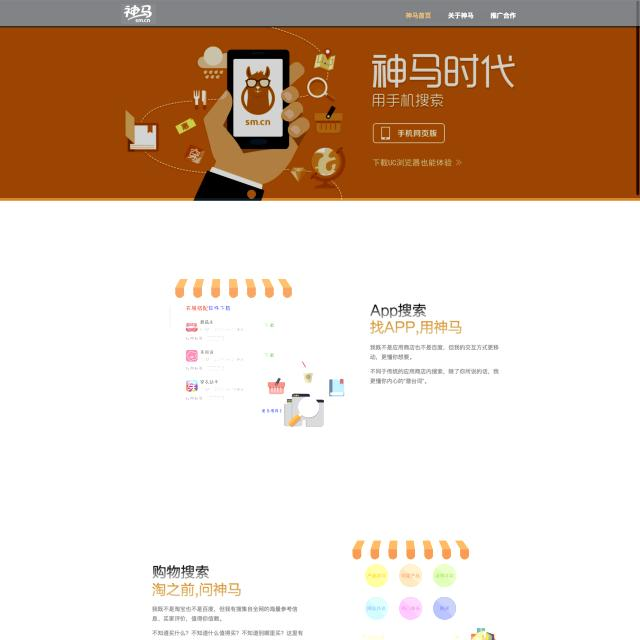bag: (0, 0, 640, 26)
card: (0, 27, 640, 198)
content: (124, 249, 358, 431), (308, 511, 518, 640)
date picker: (121, 4, 156, 24)
decoration: (404, 11, 518, 22)
